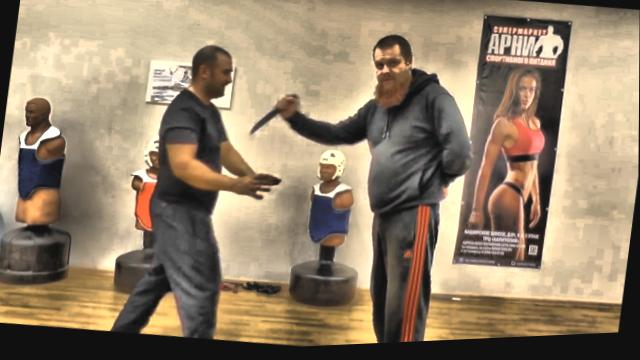knife: (246, 89, 301, 144)
